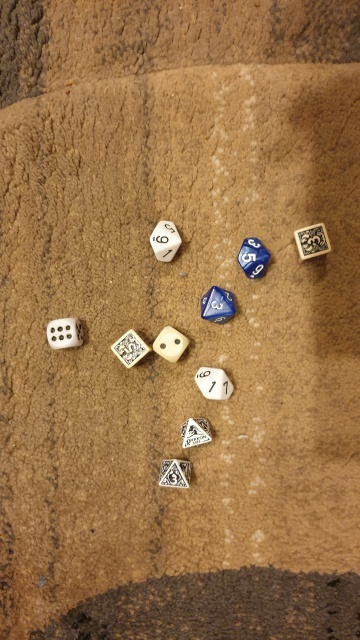d10-1: (192, 363, 240, 407)
d10-3: (195, 282, 241, 328)
d10-5: (232, 232, 273, 283)
d10-9: (145, 218, 187, 269)
d6-2: (150, 322, 190, 367)
d6-6: (41, 315, 87, 353)
d6p-3: (291, 221, 336, 266)
d6p-5: (105, 326, 152, 372)
d8p-1: (179, 414, 214, 451)
d8p-3: (154, 457, 198, 493)
